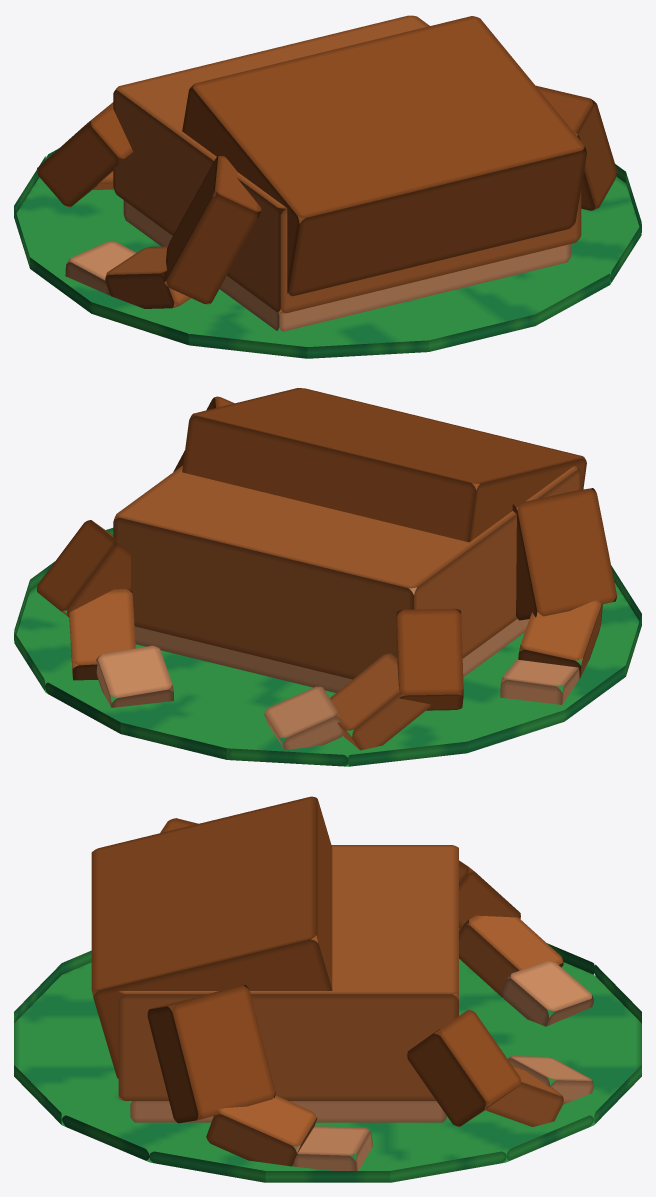
Rendered from TOAD BOT.fbx.
3 views of the same model, one above another, from view 1: azimuth 30°, elevation 25°; view 2: azimuth 150°, elevation 25°; view 3: azimuth 270°, elevation 25° (orthographic).
Parts seen in each view (by area): view 1: cube_8, circle, cube_1, cube_12, cube, cube_9, cube_5, cube_13, cube_14; view 2: cube_1, cube_8, circle, cube_12, cube_9, cube_2, cube_10, cube, cube_3, cube_13, cube_7, cube_11 (+1 smaller); view 3: circle, cube_1, cube_8, cube_5, cube_2, cube_4, cube_10, cube, cube_11, cube_6, cube_3, cube_9 (+1 smaller).
Boxes of the visible parts, bbox=[...] form: cube_8: bbox=[182, 16, 586, 296]; circle: bbox=[14, 148, 641, 358]; cube_1: bbox=[113, 15, 581, 313]; cube_12: bbox=[164, 156, 261, 304]; cube: bbox=[123, 200, 570, 331]; cube_9: bbox=[37, 102, 133, 207]; cube_5: bbox=[536, 85, 616, 210]; cube_13: bbox=[105, 246, 190, 308]; cube_14: bbox=[65, 241, 136, 295]; cube_1: bbox=[113, 465, 581, 679]; cube_8: bbox=[182, 388, 586, 542]; circle: bbox=[14, 528, 641, 766]; cube_12: bbox=[512, 488, 616, 620]; cube_9: bbox=[396, 608, 463, 710]; cube_2: bbox=[37, 520, 130, 617]; cube_10: bbox=[330, 653, 431, 750]; cube: bbox=[134, 587, 529, 692]; cube_3: bbox=[69, 589, 135, 680]; cube_13: bbox=[518, 599, 602, 677]; cube_7: bbox=[96, 645, 173, 707]; cube_11: bbox=[264, 686, 343, 749]; circle: bbox=[14, 943, 641, 1182]; cube_1: bbox=[118, 845, 458, 1100]; cube_8: bbox=[91, 796, 332, 1078]; cube_5: bbox=[147, 984, 275, 1123]; cube_2: bbox=[407, 1010, 520, 1126]; cube_4: bbox=[206, 1095, 317, 1166]; cube_10: bbox=[459, 915, 563, 997]; cube: bbox=[130, 1101, 446, 1122]; cube_11: bbox=[501, 961, 593, 1026]; cube_6: bbox=[293, 1126, 372, 1170]; cube_3: bbox=[485, 1065, 563, 1126]; cube_9: bbox=[458, 860, 520, 930].
Size of the model in its own units: 300 by 104 by 300.
1 material, 1 textured.
